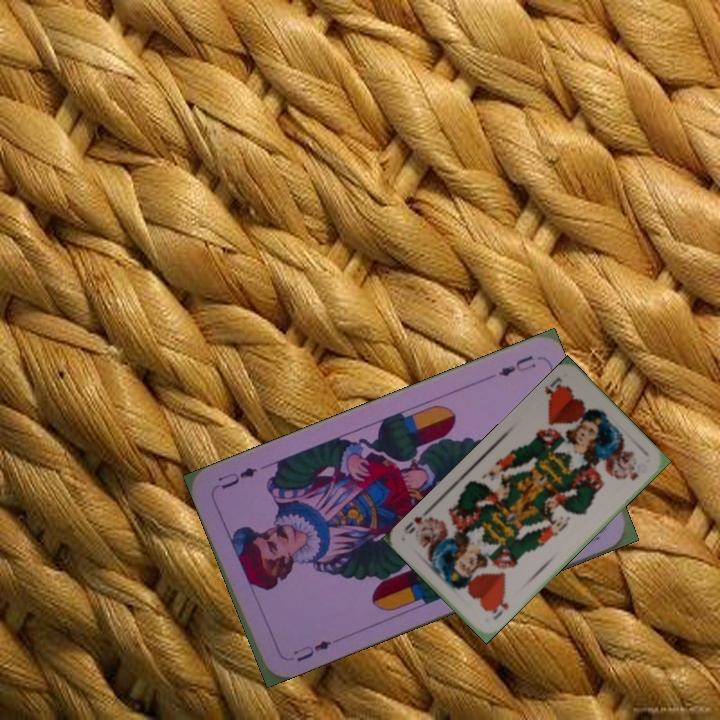EU: (289, 636, 334, 665), (494, 351, 539, 380)
HO: (540, 373, 570, 405), (486, 591, 511, 623)
